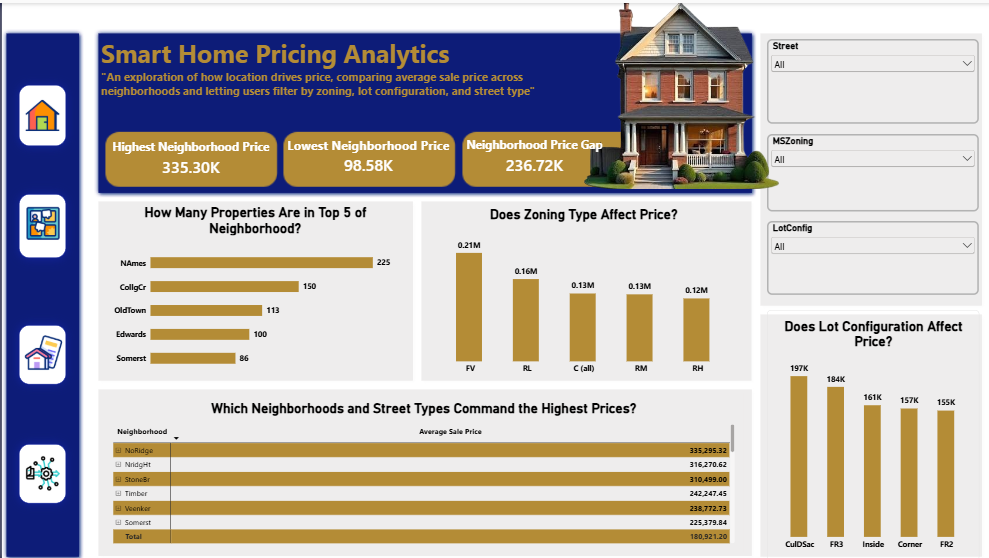

What the dashboard file says about the page in this screenshot:
{"tool":"powerbi","page":{"name":" Page 2","canvas":[1920,1080],"ordinal":2},"visuals":[{"type":"shape","box":[178,50,1282,326],"z":0},{"type":"slicer","fields":{"Values":["Dim_Location.Street"]},"box":[1480.6,69.7,410.3,164.4],"z":0,"group":"g2"},{"type":"image","box":[33,159,90.7,117.7],"z":0,"group":"g3"},{"type":"slicer","fields":{"Values":["Dim_Location.MSZoning"]},"box":[1480.6,253.1,410.3,150.1],"z":1000,"group":"g2"},{"type":"image","box":[33.2,370.2,90.7,124.2],"z":1000,"group":"g3"},{"type":"shape","box":[178,376,626,364],"z":1000},{"type":"shape","box":[804,376,656,364],"z":2000},{"type":"slicer","fields":{"Values":["Dim_Location.LotConfig"]},"box":[1480.6,422.3,410.3,142.9],"z":2000,"group":"g2"},{"type":"image","box":[33,624.3,90.7,114.8],"z":2000,"group":"g1"},{"type":"image","box":[33,853.5,90.7,114.8],"z":2000,"group":"g3"},{"type":"shape","box":[178,740,1282,340],"z":3000},{"type":"shape","box":[1460,50,446,544],"z":4000},{"type":"shape","box":[1460,594,446,486],"z":5000},{"type":"textbox","box":[192,64,866,184],"z":6000},{"type":"shape","box":[0,49.5,158,1030],"z":7000},{"type":"image","box":[146.6,247.7,437.7,111.5],"z":8000},{"type":"cardVisual","fields":{"Data":["Fact_Properties.Highest Priced Neighborhood"]},"box":[179.6,235.4,371.6,128],"z":9000},{"type":"group","id":"g1","title":"Group 2","box":[33,159,90.8,809.3],"z":10000},{"type":"group","id":"g2","title":"Group 3","box":[1480.6,69.7,410.3,495.5],"z":11000},{"type":"group","id":"g3","title":"Group 1","box":[33,159,90.8,809.3],"z":12000,"group":"g1"},{"type":"barChart","title":"Which Top 5 of Neighborhoods Command the Highest Prices?","fields":{"Category":["Dim_Location.Neighborhood"],"Y":["Fact_Properties.Average Sale Price"]},"box":[199.4,739.4,1234.8,340.6],"z":12000},{"type":"barChart","title":"How Many Properties Are in Top 5 of Neighborhood?","fields":{"Category":["Dim_Location.Neighborhood"],"Y":["CountNonNull(Fact_Properties.Id)"]},"box":[200.3,375.7,582.2,359.2],"z":13000},{"type":"columnChart","title":"Does Zoning Type Affect Price?","fields":{"Category":["Dim_Location.MSZoning"],"Y":["Fact_Properties.Average Sale Price"]},"box":[819.6,379.9,615.2,359.2],"z":14000},{"type":"columnChart","title":"Does Lot Configuration Affect Price?","fields":{"Y":["Fact_Properties.Average Sale Price"],"Category":["Dim_Location.LotConfig"]},"box":[1480.3,594.6,410.8,485.2],"z":15000},{"type":"image","box":[491.4,247.7,437.7,111.5],"z":16000},{"type":"cardVisual","fields":{"Data":["Fact_Properties.Lowest Neighborhood Price"]},"box":[536.8,231.2,346.5,133.5],"z":17000},{"type":"image","box":[838.2,247.7,437.7,111.5],"z":18000},{"type":"image","box":[1057,0,508,360],"z":19000},{"type":"cardVisual","fields":{"Data":["Fact_Properties.Neighborhood Price Gap"]},"box":[856.8,231.2,346.5,133.5],"z":20000}]}

Visuals, with their boxes in screenshot pixels (x1, y1, x2, y2), scaled from the page's 1920x1080 canvas onto the 989x558 screenshot:
shape: [92, 26, 752, 194]
slicer - Dim_Location.Street: [763, 36, 974, 121]
image: [17, 82, 64, 143]
slicer - Dim_Location.MSZoning: [763, 131, 974, 208]
image: [17, 191, 64, 255]
shape: [92, 194, 414, 382]
shape: [414, 194, 752, 382]
slicer - Dim_Location.LotConfig: [763, 218, 974, 292]
image: [17, 323, 64, 382]
image: [17, 441, 64, 500]
shape: [92, 382, 752, 557]
shape: [752, 26, 982, 307]
shape: [752, 307, 982, 557]
textbox: [99, 33, 545, 128]
shape: [0, 26, 81, 557]
image: [76, 128, 301, 186]
cardVisual - Fact_Properties.Highest Priced Neighborhood: [93, 122, 284, 188]
"Group 2" group: [17, 82, 64, 500]
"Group 3" group: [763, 36, 974, 292]
"Group 1" group: [17, 82, 64, 500]
"Which Top 5 of Neighborhoods Command the Highest Prices?" barChart: [103, 382, 739, 557]
"How Many Properties Are in Top 5 of Neighborhood?" barChart: [103, 194, 403, 380]
"Does Zoning Type Affect Price?" columnChart: [422, 196, 739, 382]
"Does Lot Configuration Affect Price?" columnChart: [763, 307, 974, 557]
image: [253, 128, 479, 186]
cardVisual - Fact_Properties.Lowest Neighborhood Price: [277, 119, 455, 188]
image: [432, 128, 657, 186]
image: [544, 0, 806, 186]
cardVisual - Fact_Properties.Neighborhood Price Gap: [441, 119, 620, 188]
